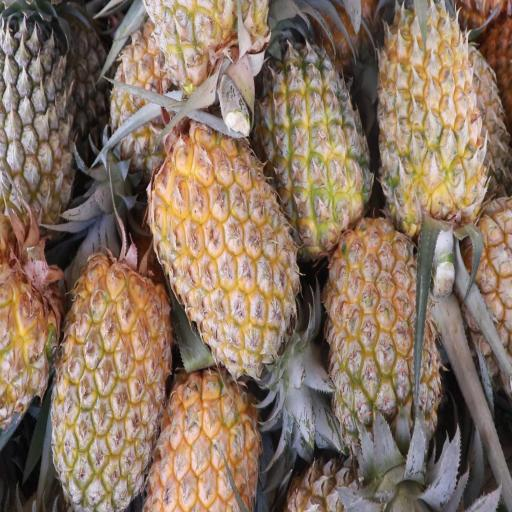------------------------------: (251, 16, 372, 266), (136, 2, 270, 154)
Pineapple - v8 v1: (145, 116, 299, 386), (320, 208, 445, 512), (46, 234, 176, 512), (372, 0, 484, 262), (139, 354, 268, 512), (0, 205, 71, 456)
